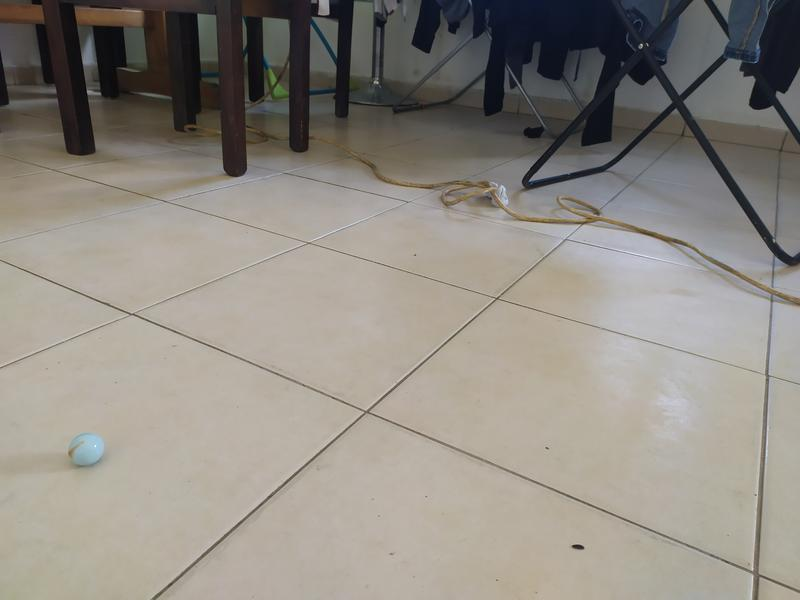Warning: (66, 430, 107, 469)
